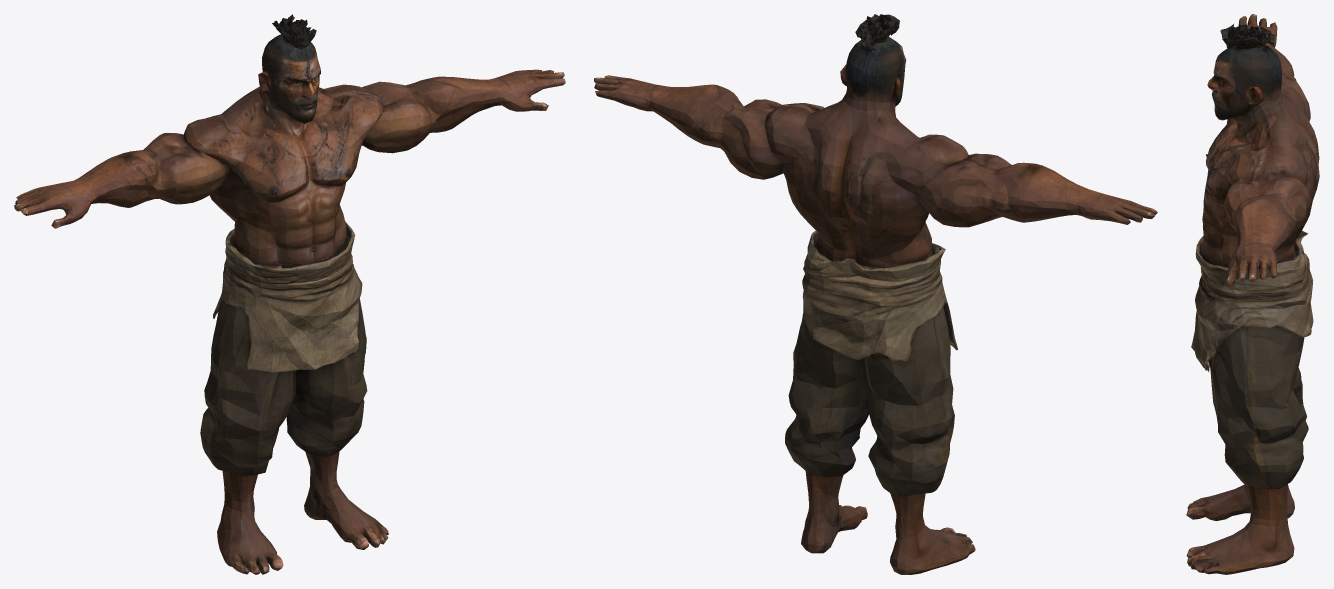
The model's file is person.glb.
3 renders of one model, left to right at view 1: azimuth 30°, elevation 25°; view 2: azimuth 150°, elevation 25°; view 3: azimuth 270°, elevation 25°, orthographic. The views are drawn at different scales.
Parts seen in each view (by area): view 1: temp; view 2: temp; view 3: temp.
Part boxes in pixels (box(x1,y1,x2,y2)): temp: box(14, 14, 565, 574); temp: box(594, 14, 1157, 574); temp: box(1186, 14, 1319, 574).
Size of the model in its own units: 2 by 1.81 by 0.425.
Materials: 1 (1 with a texture image).
